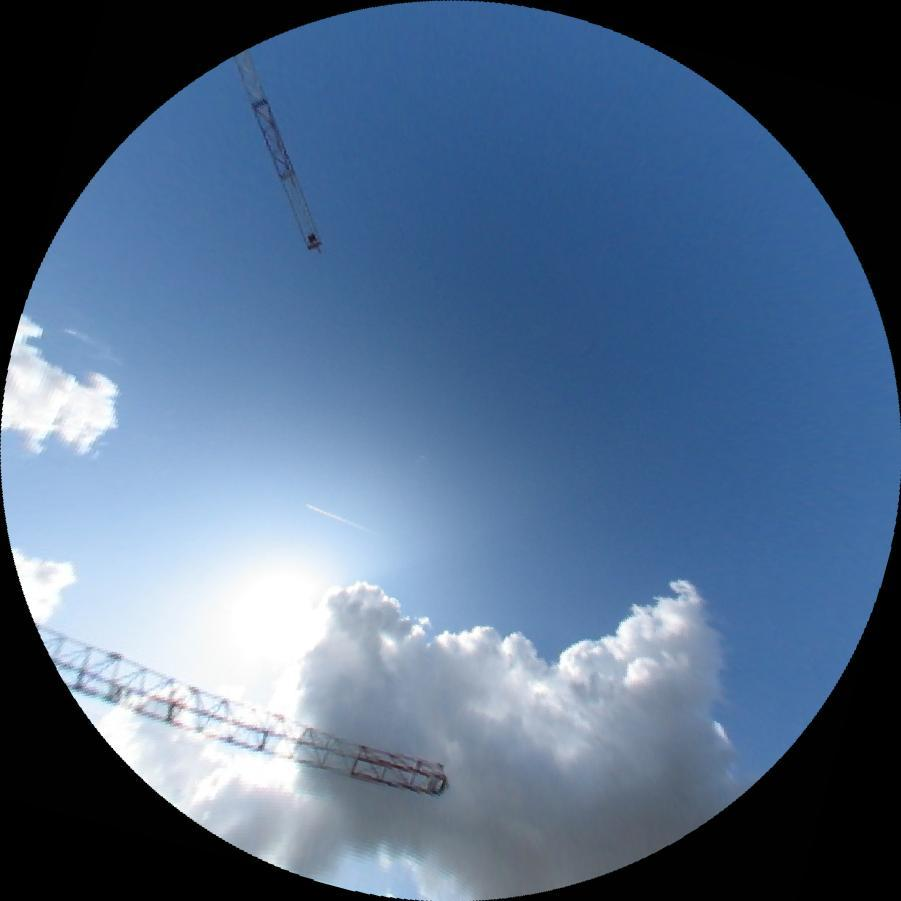contrail young: (303, 501, 383, 539)
sun: (194, 550, 337, 716)
